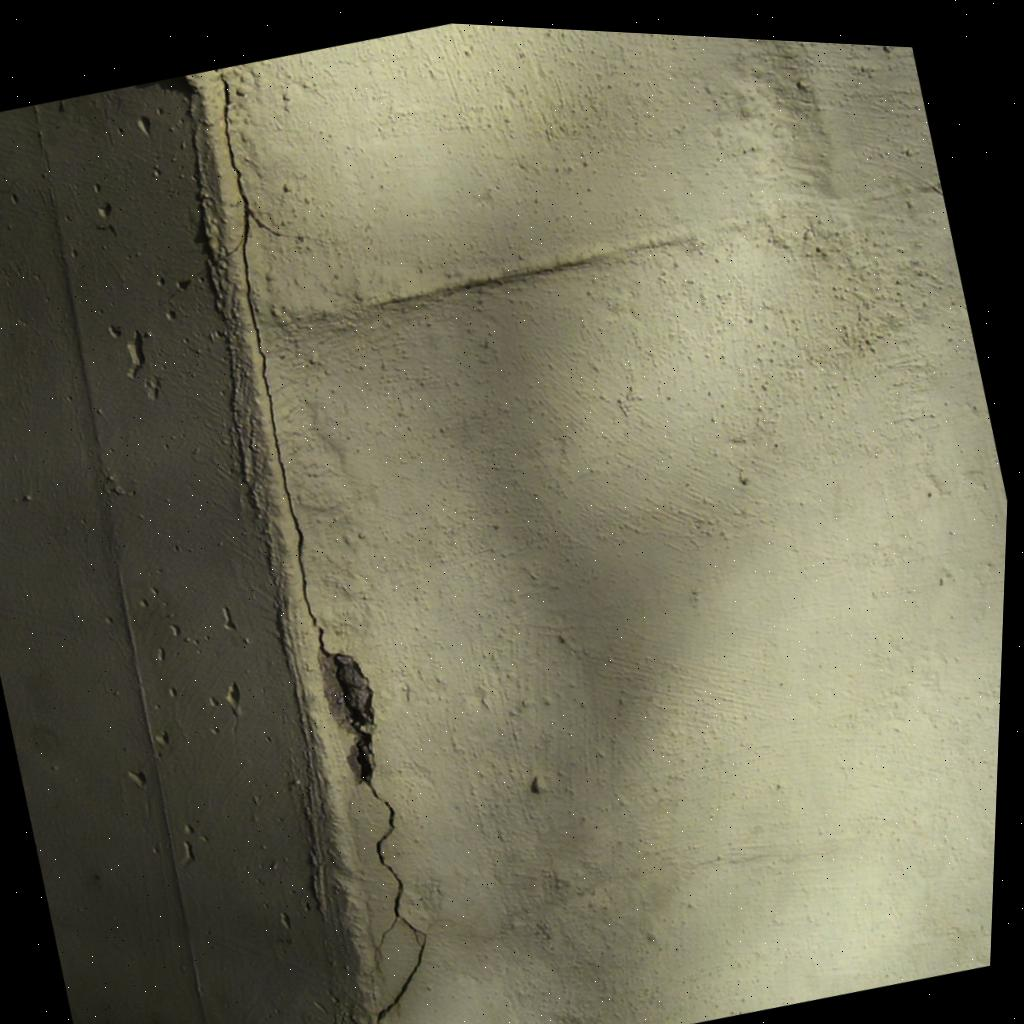spalling: (324, 651, 375, 782)
